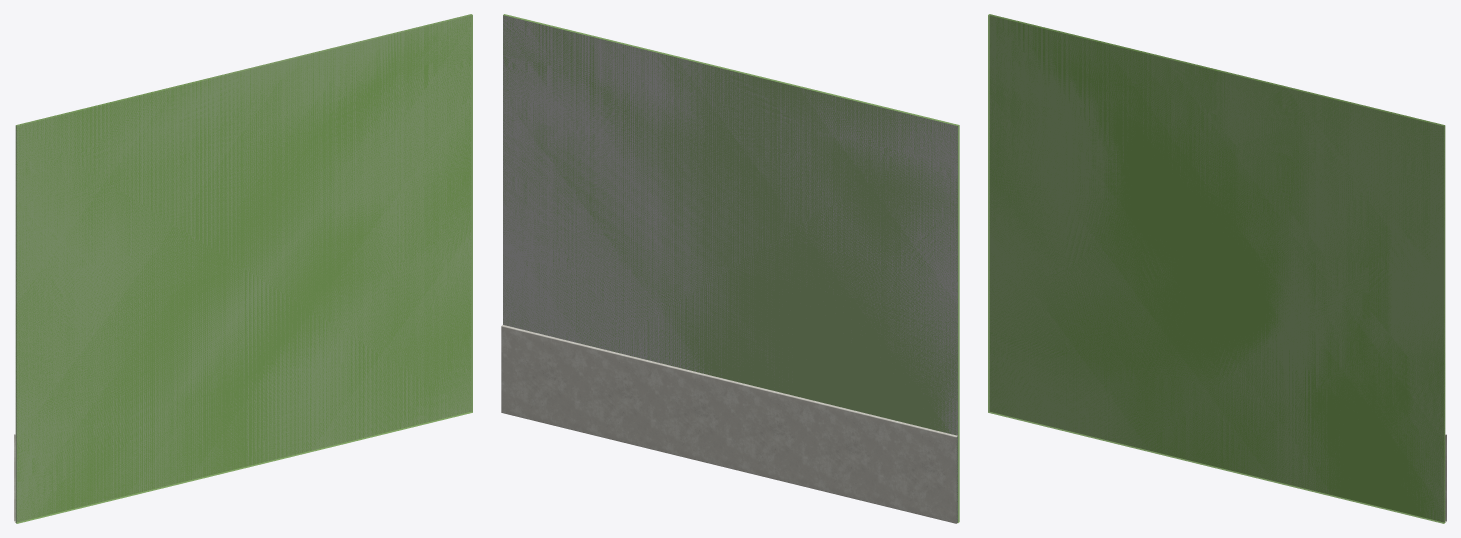
File: F9_md_Wall_5x6_01.fbx
3 renders of one model, left to right at view 1: azimuth 30°, elevation 25°; view 2: azimuth 150°, elevation 25°; view 3: azimuth 330°, elevation 25°, orthographic.
Parts seen in each view (by area): view 1: F9_md_Wall_5x6_01_col_1, F9_md_Wall_5x6_01_LOD0; view 2: F9_md_Wall_5x6_01_LOD0, F9_md_Wall_5x6_01_col_1; view 3: F9_md_Wall_5x6_01_col_1, F9_md_Wall_5x6_01_LOD0.
Boxes of the visible parts, x1,y1,x2,y2 form: F9_md_Wall_5x6_01_col_1: (15, 14, 472, 523); F9_md_Wall_5x6_01_LOD0: (14, 14, 471, 522); F9_md_Wall_5x6_01_LOD0: (501, 15, 957, 523); F9_md_Wall_5x6_01_col_1: (503, 14, 959, 522); F9_md_Wall_5x6_01_col_1: (988, 14, 1445, 523); F9_md_Wall_5x6_01_LOD0: (989, 14, 1446, 522).
Size of what is drawn, in the model's own units: 600 by 500 by 6.83.
